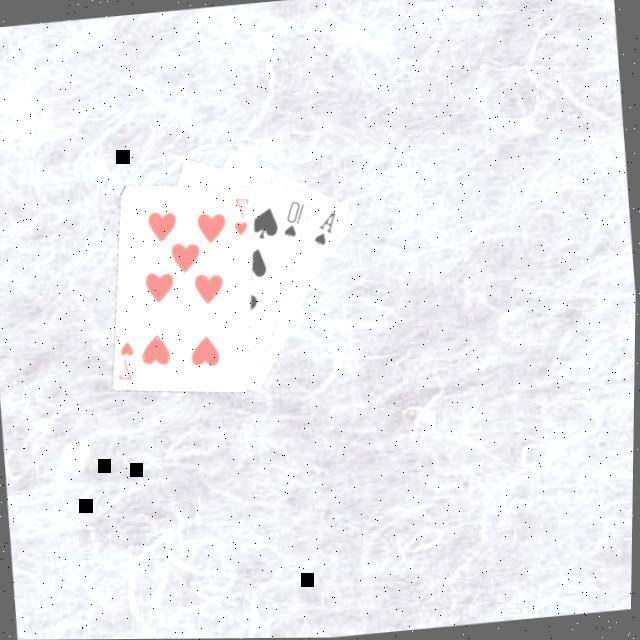10S: (280, 195, 313, 241)
7H: (230, 192, 257, 238), (115, 336, 142, 382)
AS: (310, 207, 343, 248)
